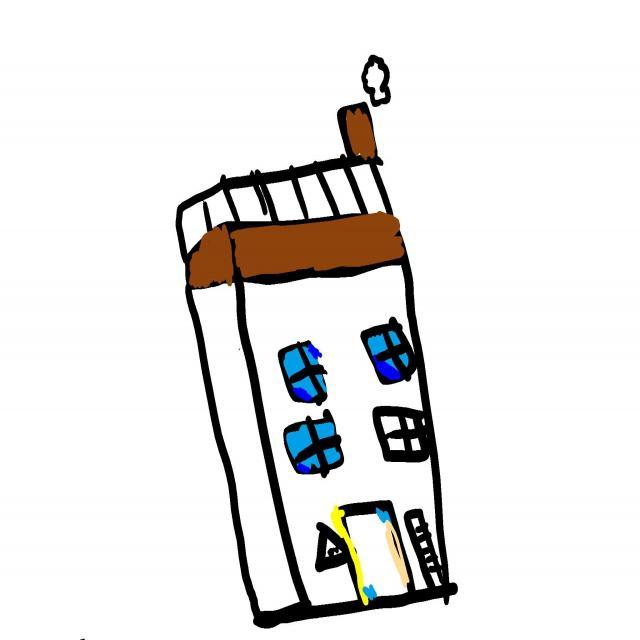chimney: (338, 102, 378, 160)
door: (339, 505, 413, 608)
house: (176, 102, 459, 630)
roof: (179, 157, 392, 261)
wall: (188, 217, 447, 620)
window: (285, 411, 343, 479), (362, 318, 417, 385), (279, 341, 328, 406), (374, 407, 430, 463)
